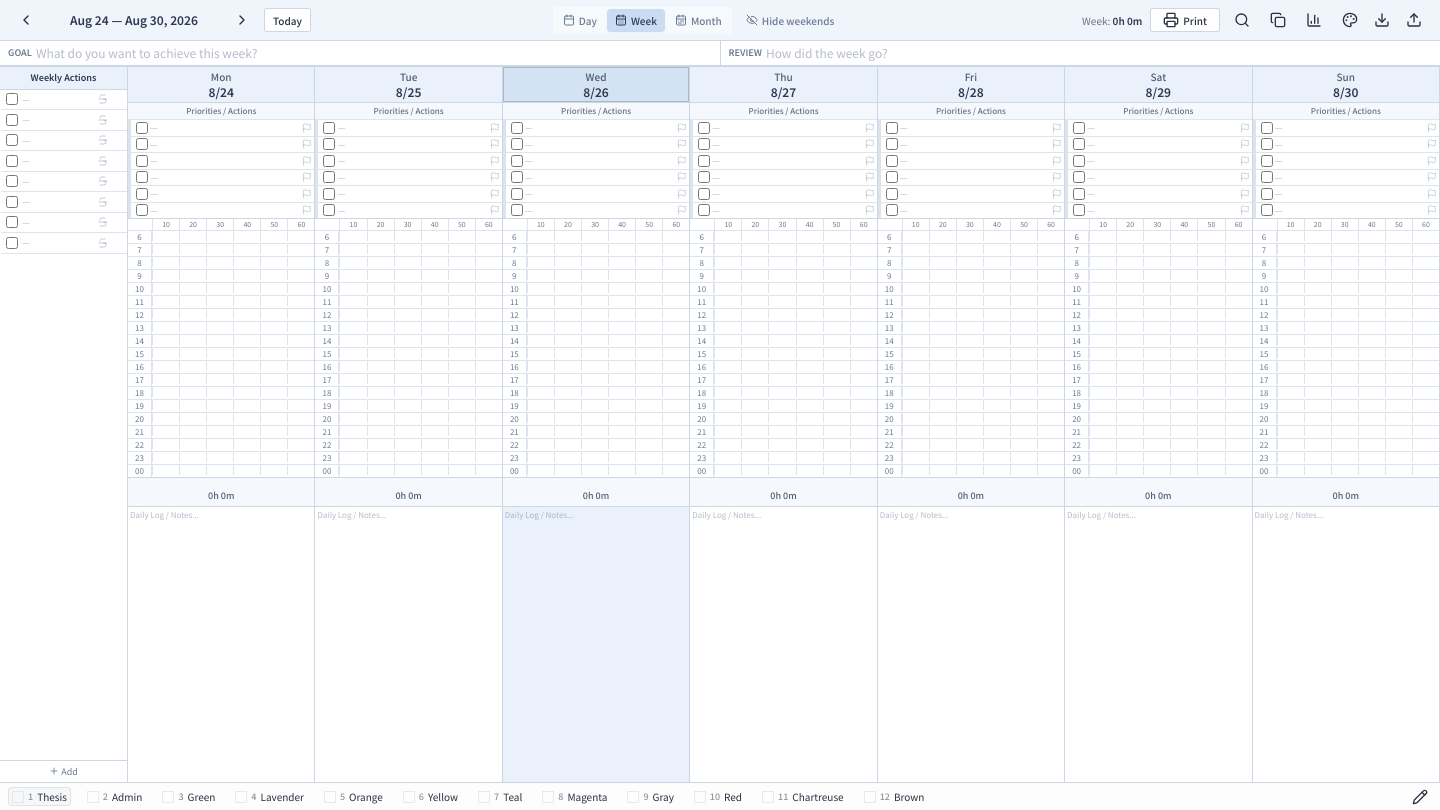
it: reaching it from the toolbar › opens from the app's toolbar
Click the button named "trends by tag".
click(1314, 20)  # box x1=1300 y1=6 x2=1328 y2=34
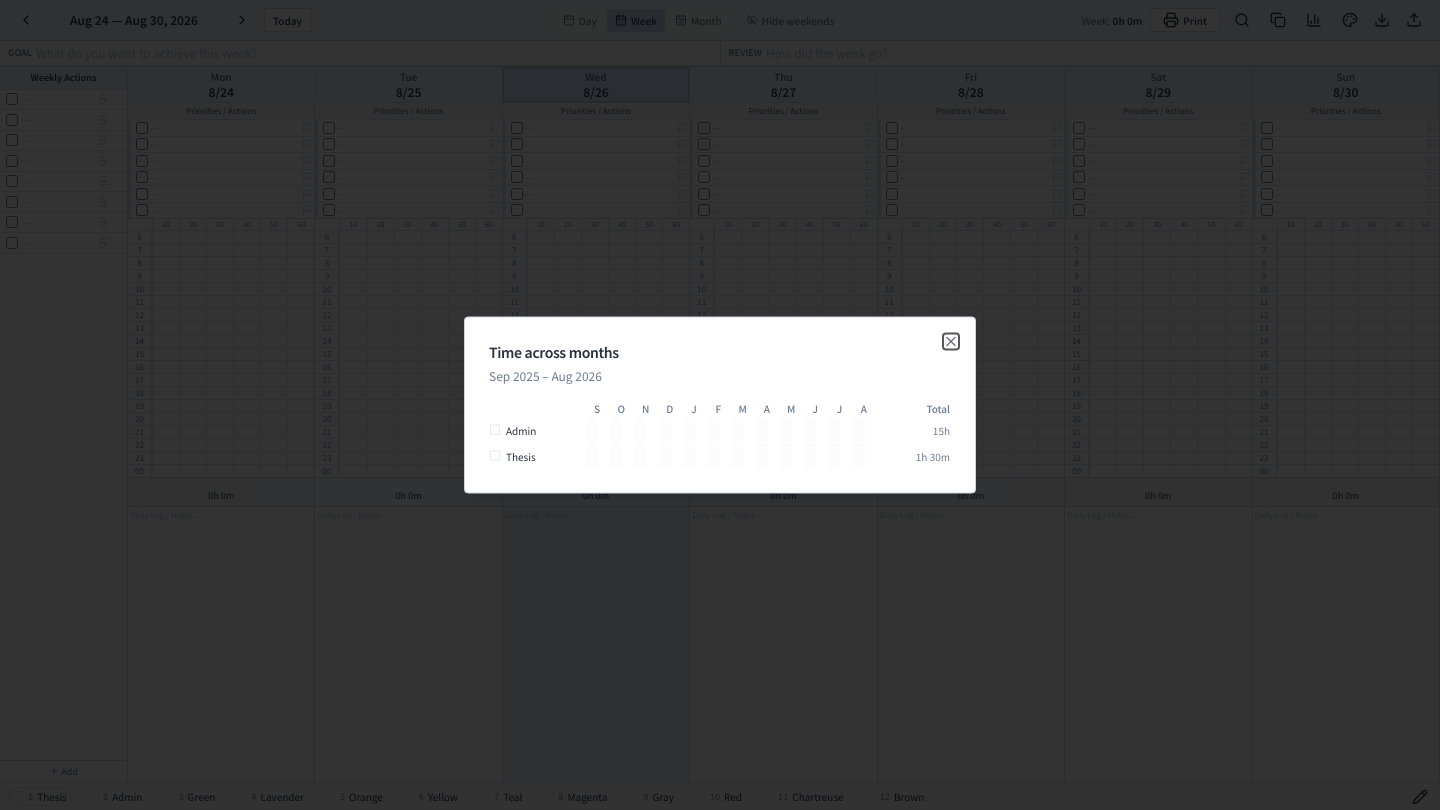
Expected: the column heading "Thesis" is shown, x1=489 y1=442 x2=585 y2=468
